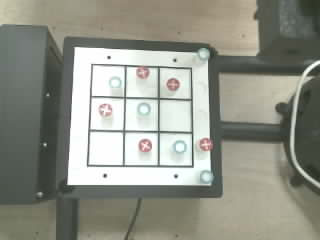blue circle: (200, 170, 213, 183), (173, 140, 186, 152), (137, 103, 150, 115), (197, 48, 209, 60), (109, 76, 121, 87)
board: (67, 46, 211, 185)
cells: (89, 132, 122, 165), (90, 98, 123, 130), (125, 133, 157, 165), (160, 134, 192, 165), (92, 65, 124, 96), (159, 100, 191, 131), (125, 99, 157, 130), (126, 67, 157, 97), (160, 68, 190, 98)
grid: (87, 64, 193, 167)
red cross: (136, 66, 149, 78), (166, 78, 179, 90), (99, 104, 112, 116), (199, 138, 212, 150), (139, 139, 151, 151)
